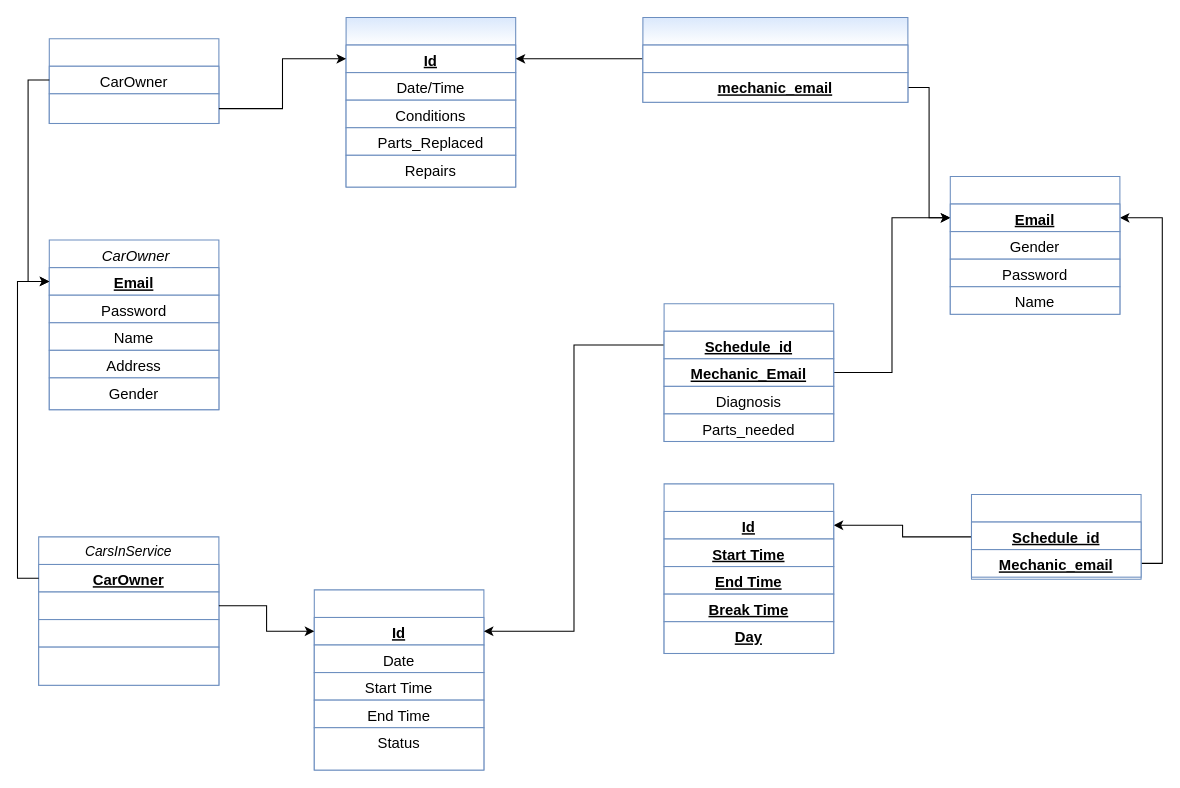
Some shapes in this 1180 by 788 pixel diagram are drawn without their labels. Here are the shapes that lost their labels. From the top down, the box of each, then its label:
(642, 44, 908, 73): maintenance_id
(642, 16, 908, 102): MechanicViewMaintenanceHistory
(48, 38, 219, 123): CarsUnderMaintenance
(48, 93, 219, 123): History
(345, 16, 516, 187): CarMaintenanceHistory
(949, 175, 1120, 314): Mechanic
(663, 303, 834, 441): MaintenanceAssignment
(970, 493, 1141, 579): MechanicsAvailability
(663, 483, 834, 653): ServiceSchedule
(38, 591, 219, 620): Appt_id
(38, 619, 219, 647): Concerns
(38, 646, 219, 685): Signs
(313, 589, 484, 770): ServiceAppointment
